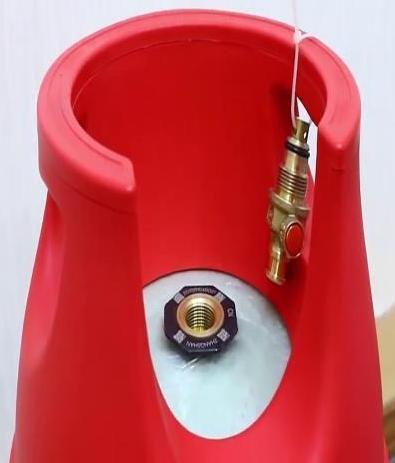cylinder: (1, 1, 395, 463)
